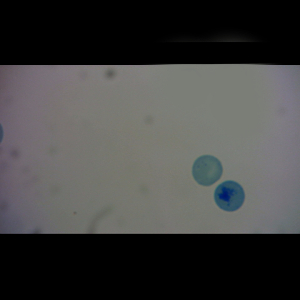aggregate reticulocyte: (213, 180, 246, 212)
punctate reticulocyte: (191, 154, 224, 186)
